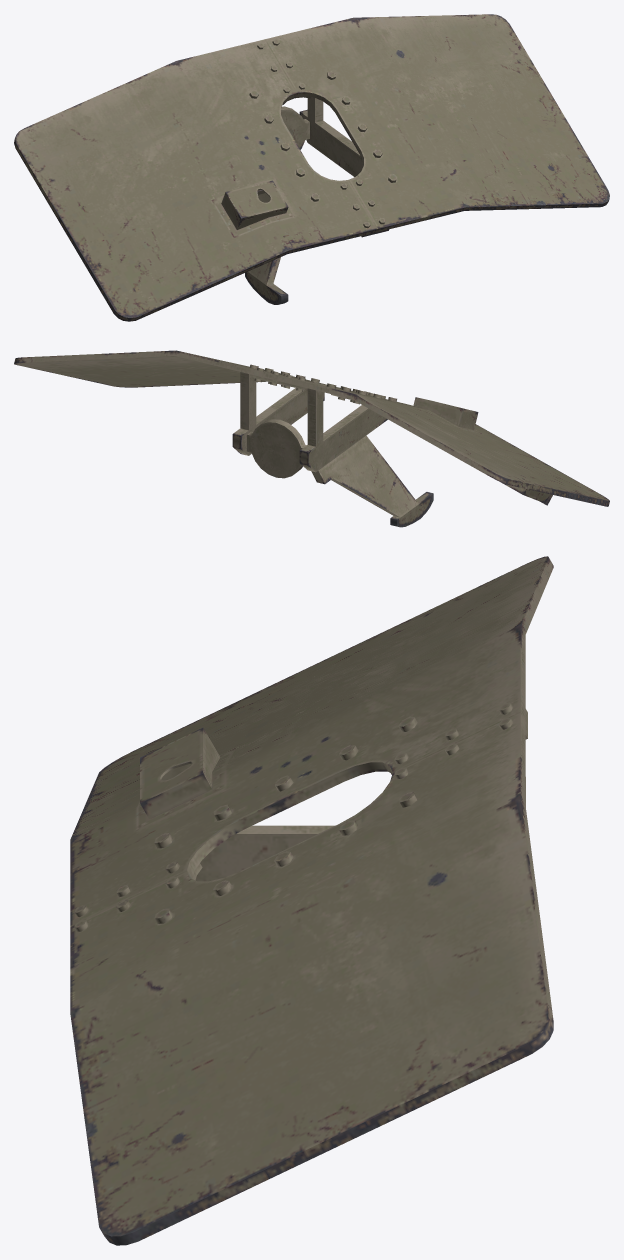
File: Turret_01.glb
3 renders of one model, top to bottom at view 1: azimuth 30°, elevation 25°; view 2: azimuth 150°, elevation 25°; view 3: azimuth 270°, elevation 25°, orthographic. The views are drawn at different scales.
Parts seen in each view (by area): view 1: set_0_group_0; view 2: set_0_group_0; view 3: set_0_group_0.
Part boxes in pixels (bbox=[...]): set_0_group_0: bbox=[14, 14, 609, 321]; set_0_group_0: bbox=[14, 350, 609, 527]; set_0_group_0: bbox=[70, 556, 553, 1245].
Size of the model in its own units: 2.01 by 0.7291 by 0.8548.
Materials: 1 (1 with a texture image).
